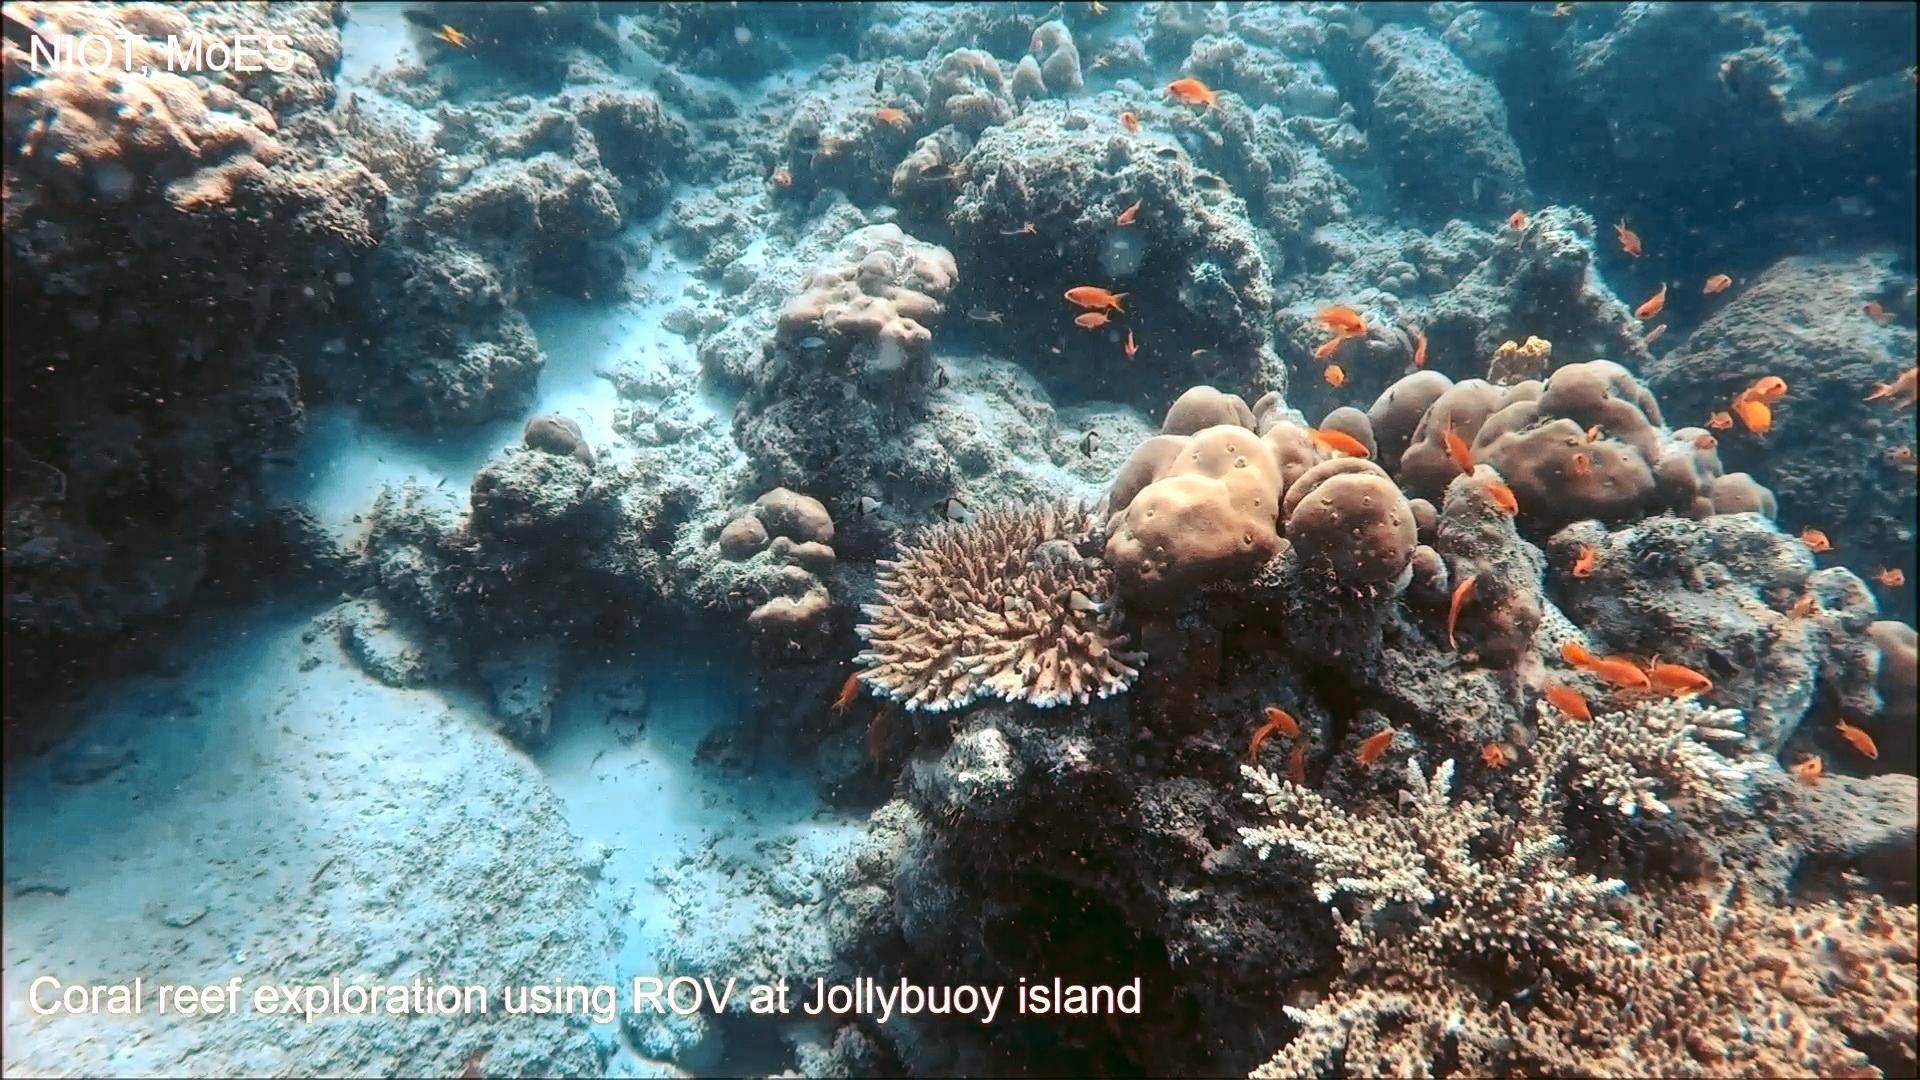Porites-Porites pukoensis: (1348, 350, 1790, 540), (1092, 376, 1419, 609)
